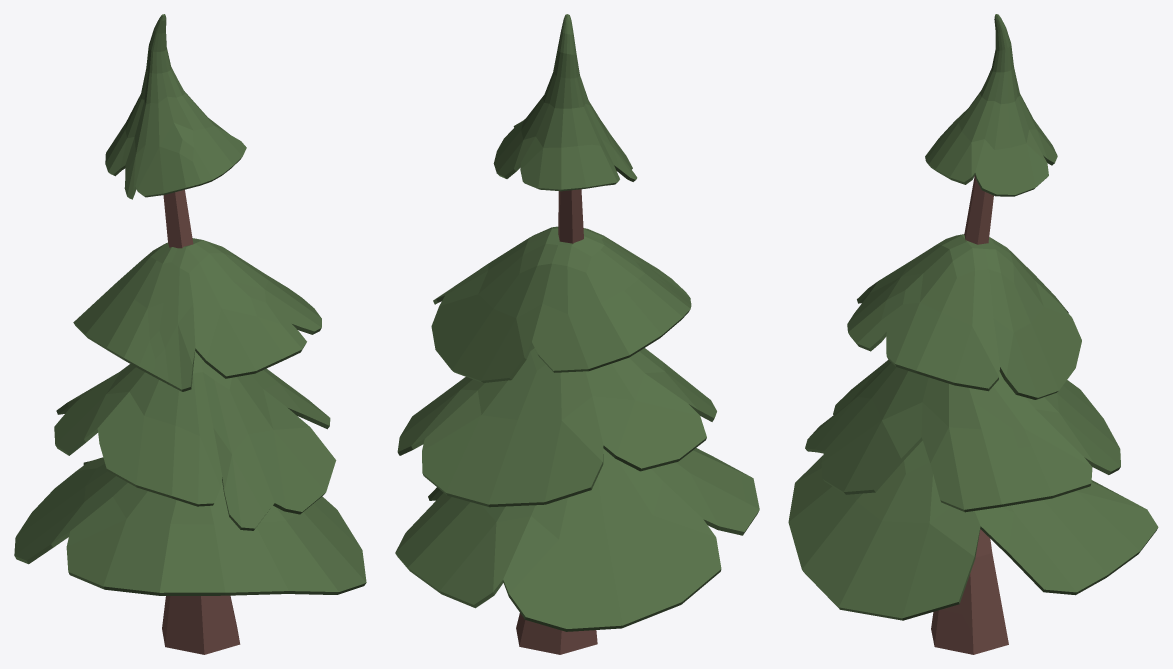
Rendered from pine_tree_2.glb.
3 renders of one model, left to right at view 1: azimuth 30°, elevation 25°; view 2: azimuth 150°, elevation 25°; view 3: azimuth 270°, elevation 25°, orthographic. The views are drawn at different scales.
Visible parts, largest first — view 1: pine_tree_2; view 2: pine_tree_2; view 3: pine_tree_2.
Part boxes in pixels (left/top/right/bottom): pine_tree_2: left=14, top=14, right=366, bottom=654; pine_tree_2: left=395, top=14, right=759, bottom=654; pine_tree_2: left=788, top=14, right=1158, bottom=654.
Bounding box in the file's own units: 1.8 × 3.56 × 1.96.
1 material, 1 textured.
